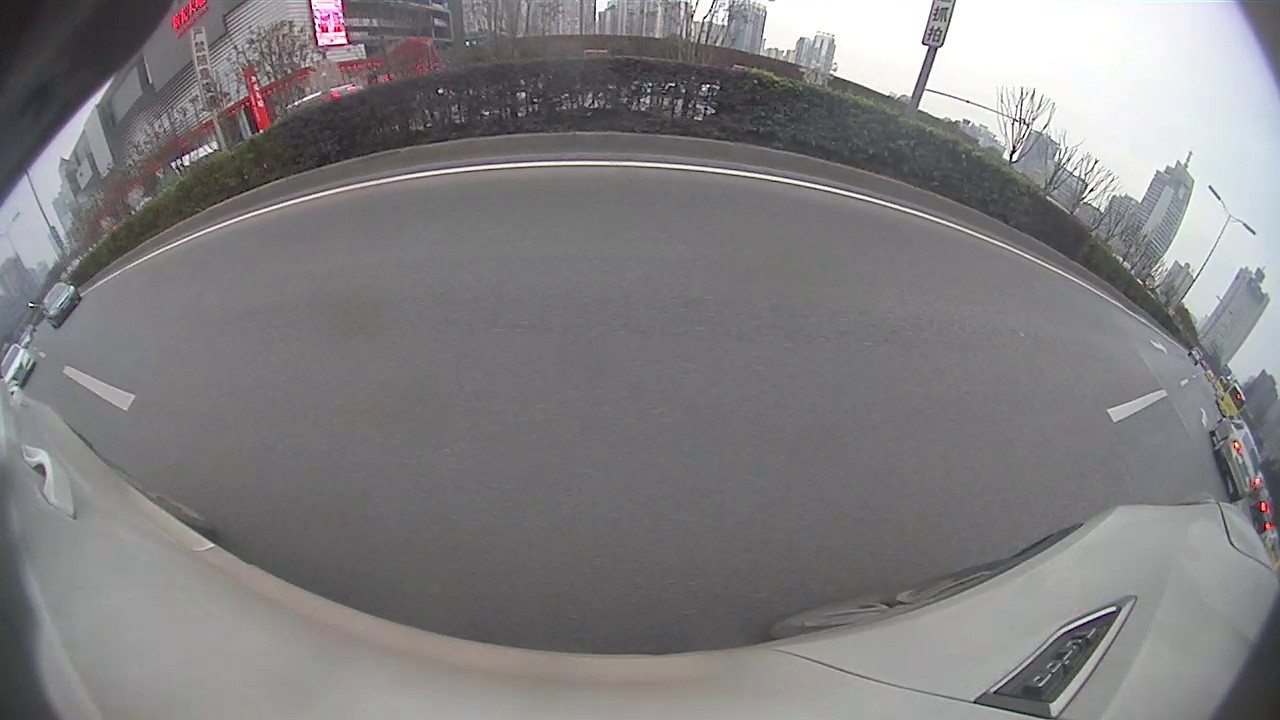car: (1210, 418, 1262, 503), (41, 280, 82, 330)
